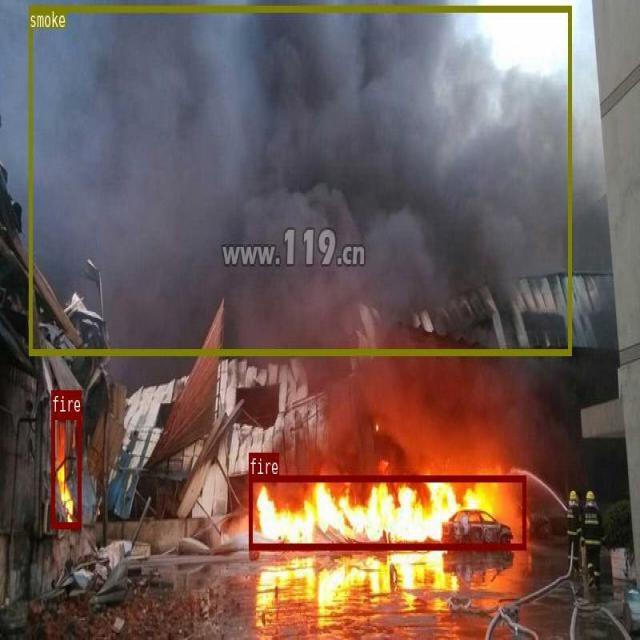fire: (248, 474, 525, 549), (52, 413, 81, 527)
smoke: (28, 5, 571, 354)
